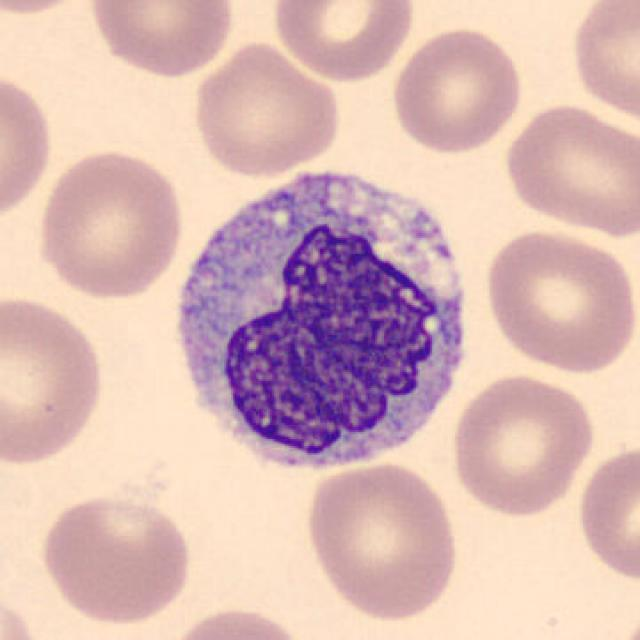Monocyte: (158, 152, 487, 484)
RBC: (300, 459, 462, 624), (34, 144, 186, 302), (480, 226, 636, 376), (446, 368, 599, 518), (189, 37, 343, 180), (38, 490, 196, 628), (0, 291, 108, 469), (500, 101, 638, 238), (388, 23, 526, 157), (270, 0, 420, 83), (83, 0, 238, 79), (574, 439, 638, 585), (0, 67, 57, 229), (567, 0, 638, 125), (164, 603, 308, 640), (0, 589, 46, 640), (0, 0, 96, 18)
